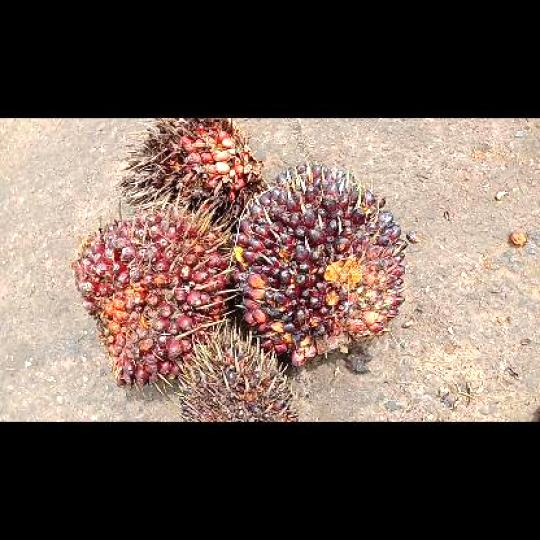kurang masak: (230, 160, 408, 367)
masak: (68, 207, 231, 388)
terlalu masak: (118, 118, 269, 230)
